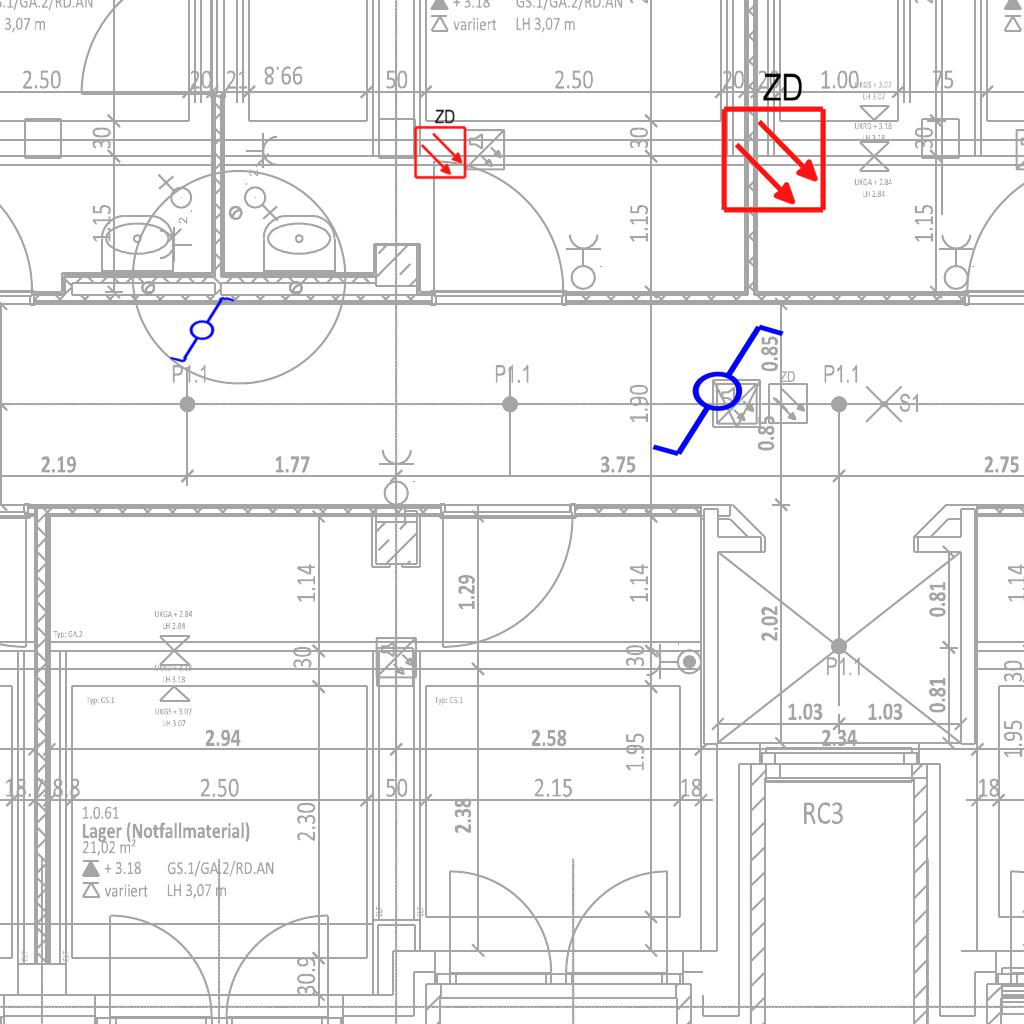Wechselschalter: (631, 317, 788, 461), (158, 292, 238, 366)
ZD_Melder_in_Zwischendecke_mit_Revisionsoeffnung_mind_40_x_40_cm: (715, 66, 829, 215), (411, 106, 468, 180)
